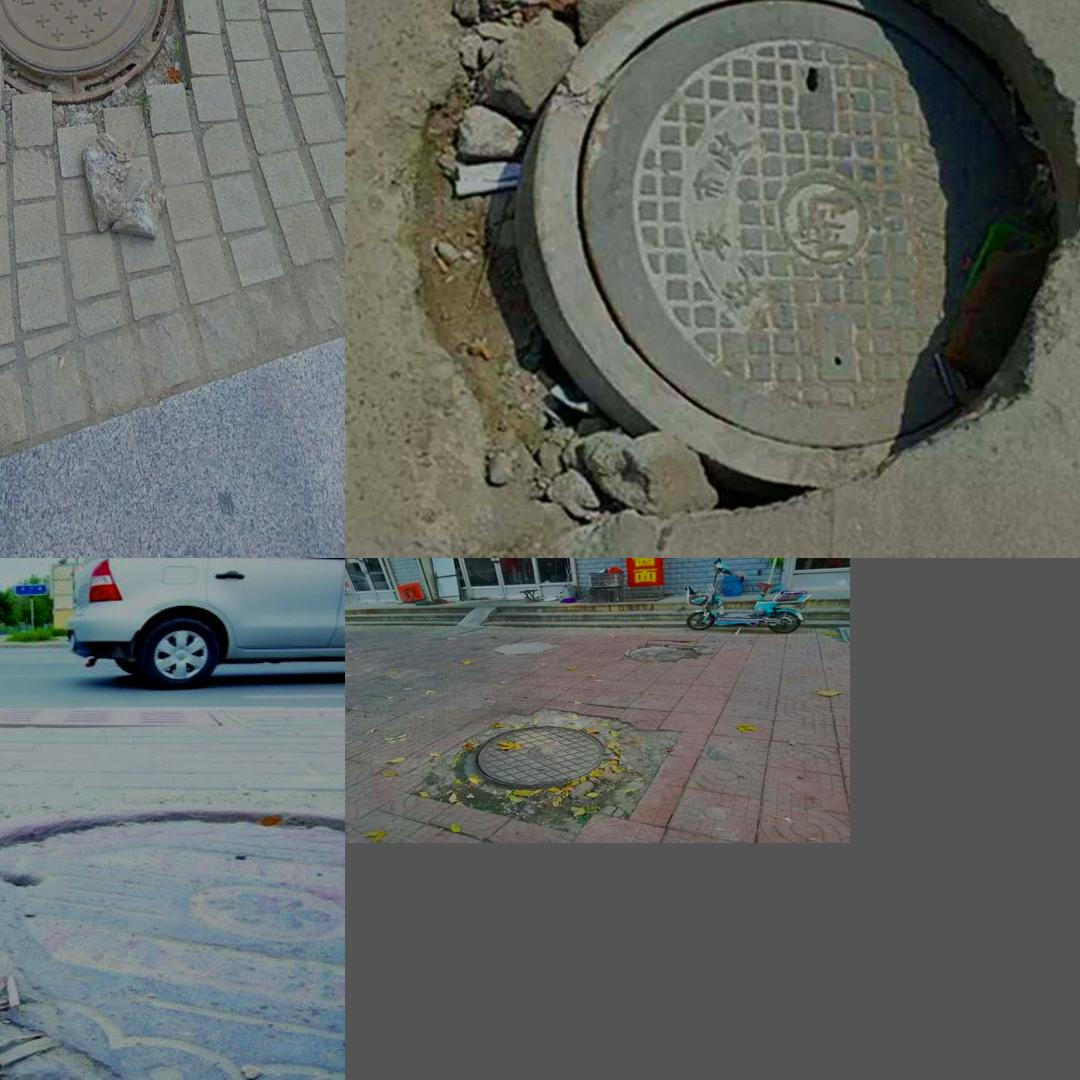circle: (426, 0, 1080, 504), (0, 790, 334, 1080), (0, 0, 212, 152), (426, 707, 669, 829)
